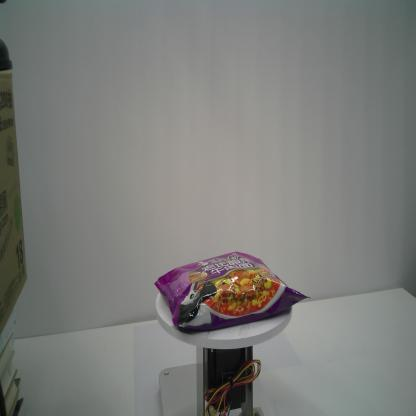Instant Noodles: (153, 250, 312, 331)
